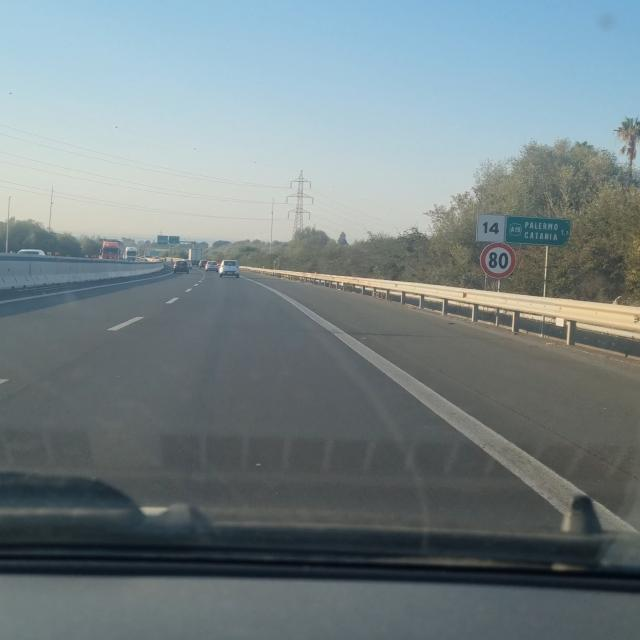forb_speed_over_80: (479, 242, 518, 280)
